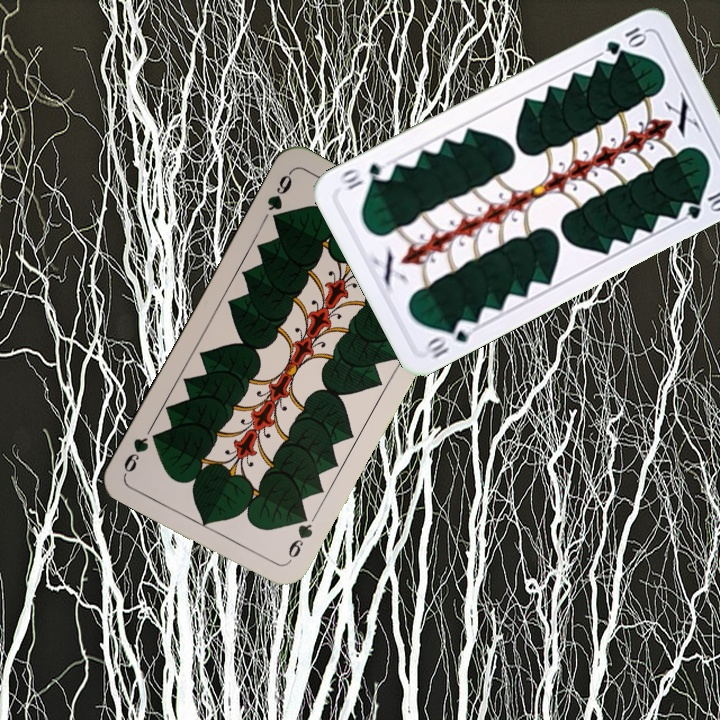G10: (420, 315, 478, 361), (602, 23, 649, 58)
G9: (263, 167, 295, 226), (284, 508, 315, 566)
